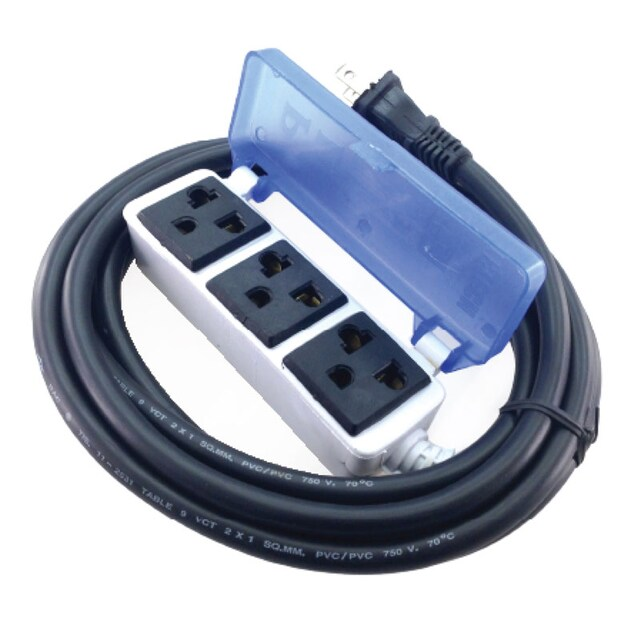Three_eye_plug: (113, 157, 452, 485)
